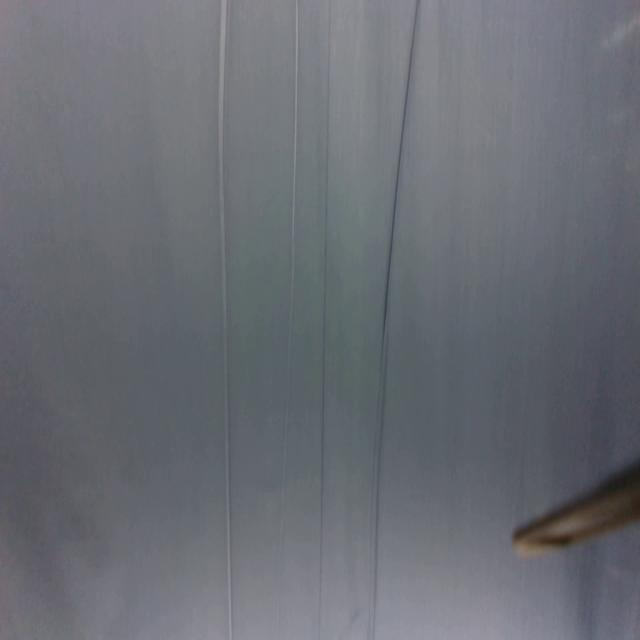crease: (367, 0, 422, 636), (275, 0, 299, 629), (218, 0, 235, 640), (316, 0, 333, 640)
